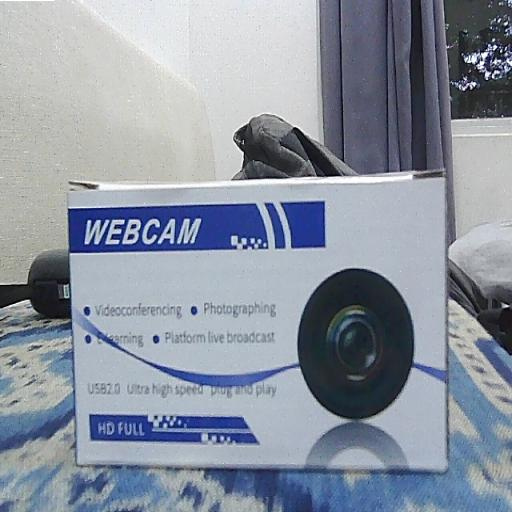webcam_box: (66, 166, 449, 476)
